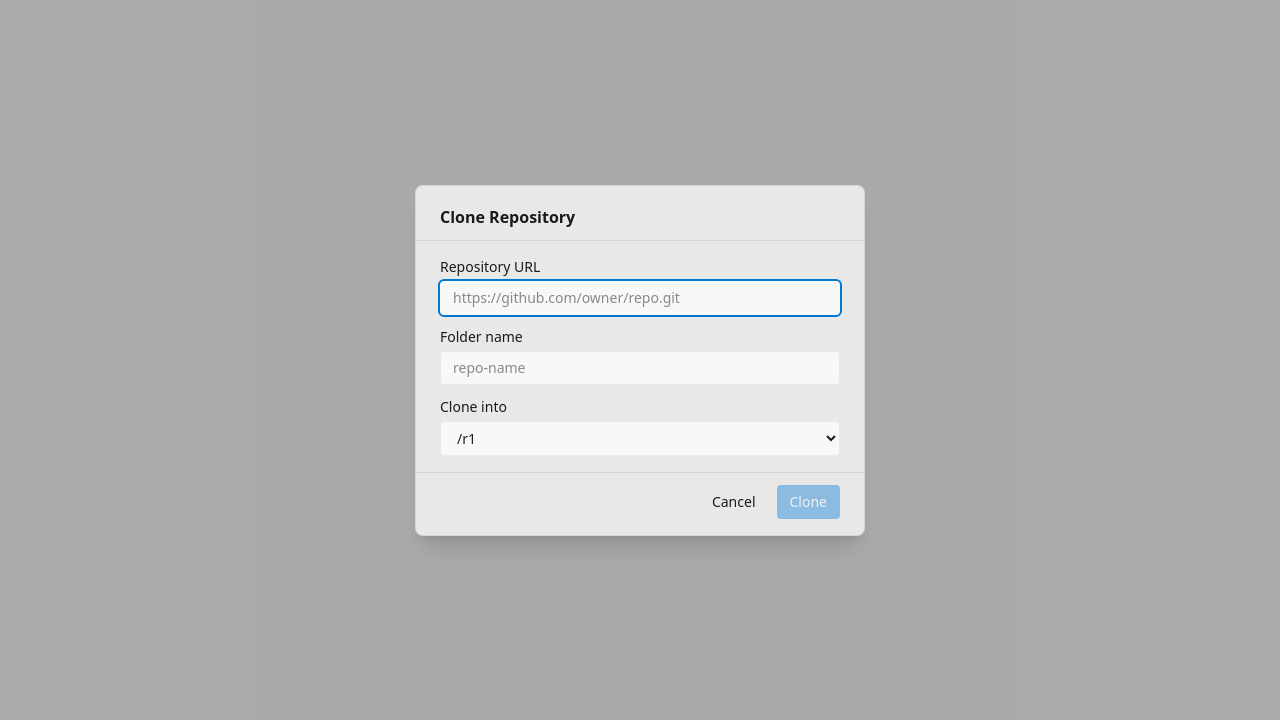
Test case: CloneRepoDialog › invalid name disables Clone and shows error
Type "https://github.com/me/foo.git" into the field labelled "Repository URL". click: [640, 298]
box: [440,280,840,314]
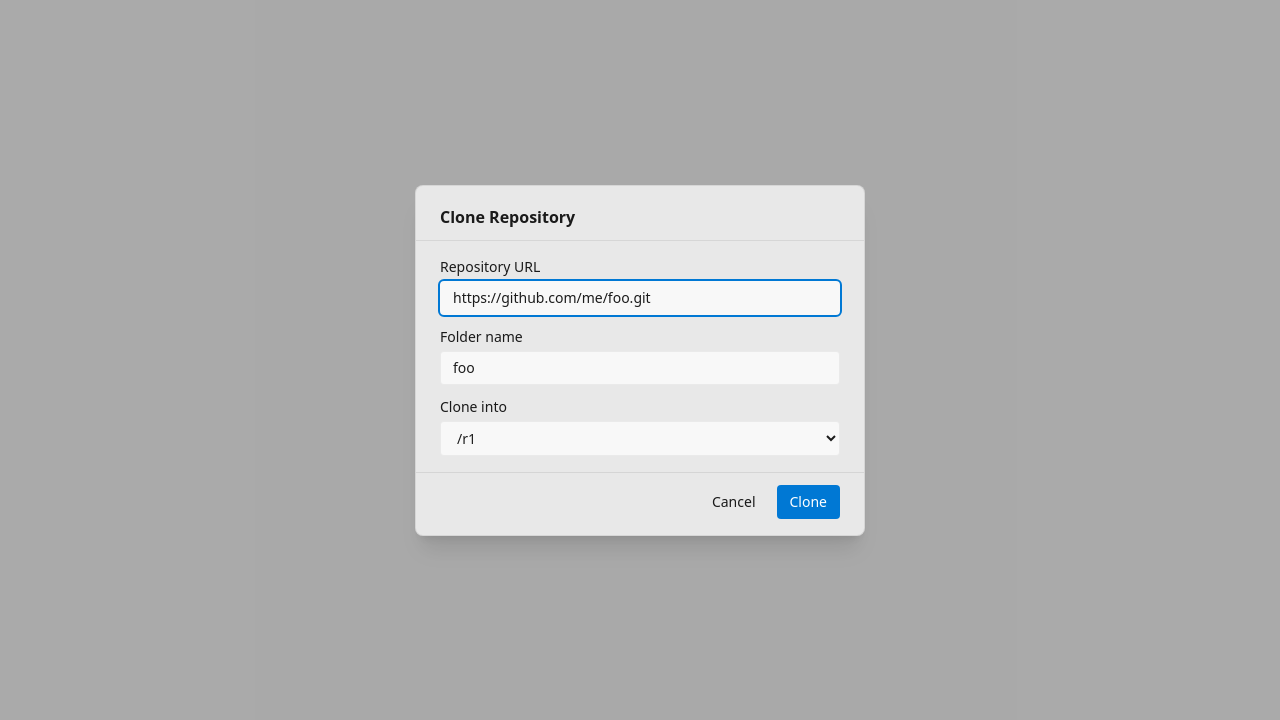
Clear the prefilled name then type an invalid one
Replace the text in the field labelled "Folder name" with "bad:name". click: [640, 368]
box: [440,350,840,384]
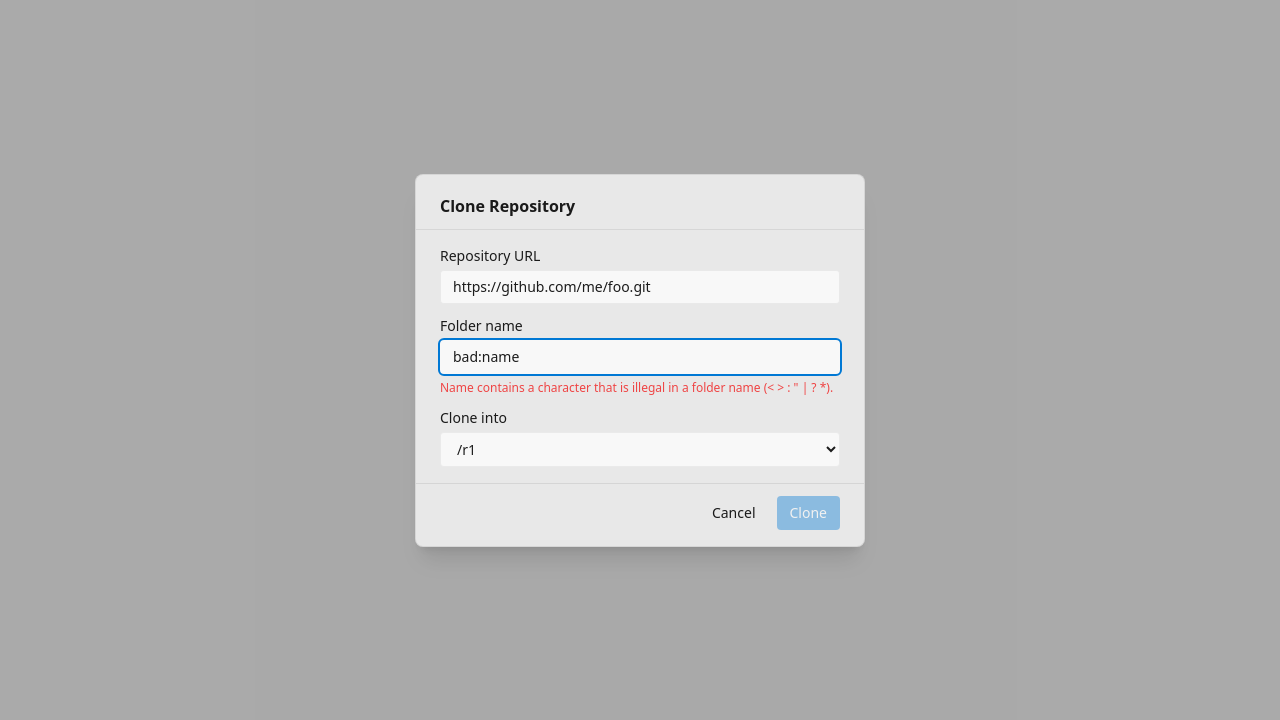
Now the button "Clone" is disabled, box [776,496,840,530]
Now the message "Name contains a character that is illegal in a folder name (< > : \" | ? *)." is shown, box [440,380,840,396]
